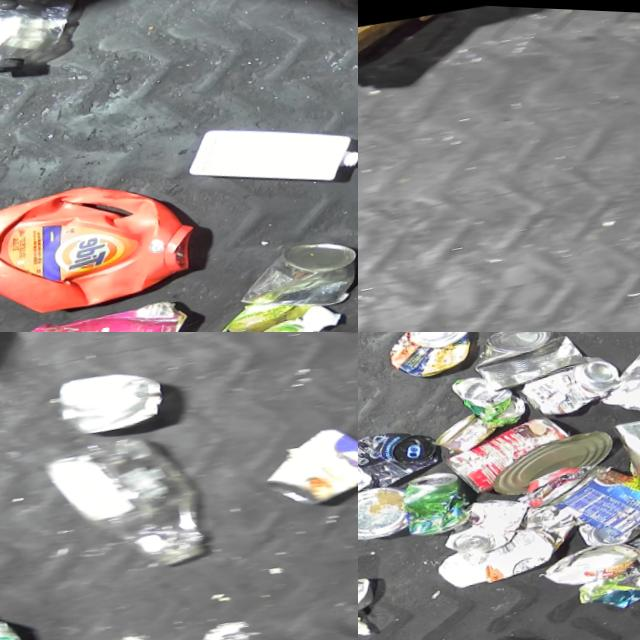can: (440, 404, 582, 500), (229, 224, 358, 323), (253, 408, 358, 515), (488, 420, 622, 498), (542, 441, 640, 546), (516, 343, 628, 419), (467, 332, 592, 395), (358, 416, 445, 502), (438, 484, 539, 557), (397, 461, 476, 536), (540, 529, 640, 588), (449, 363, 530, 430), (381, 332, 478, 382), (358, 477, 413, 548), (432, 403, 501, 454), (577, 507, 640, 546), (611, 400, 640, 480), (358, 568, 384, 634), (627, 522, 640, 574)
non_white_jug: (0, 157, 225, 332)
plastic_bottle: (38, 418, 217, 588), (0, 0, 106, 91)
